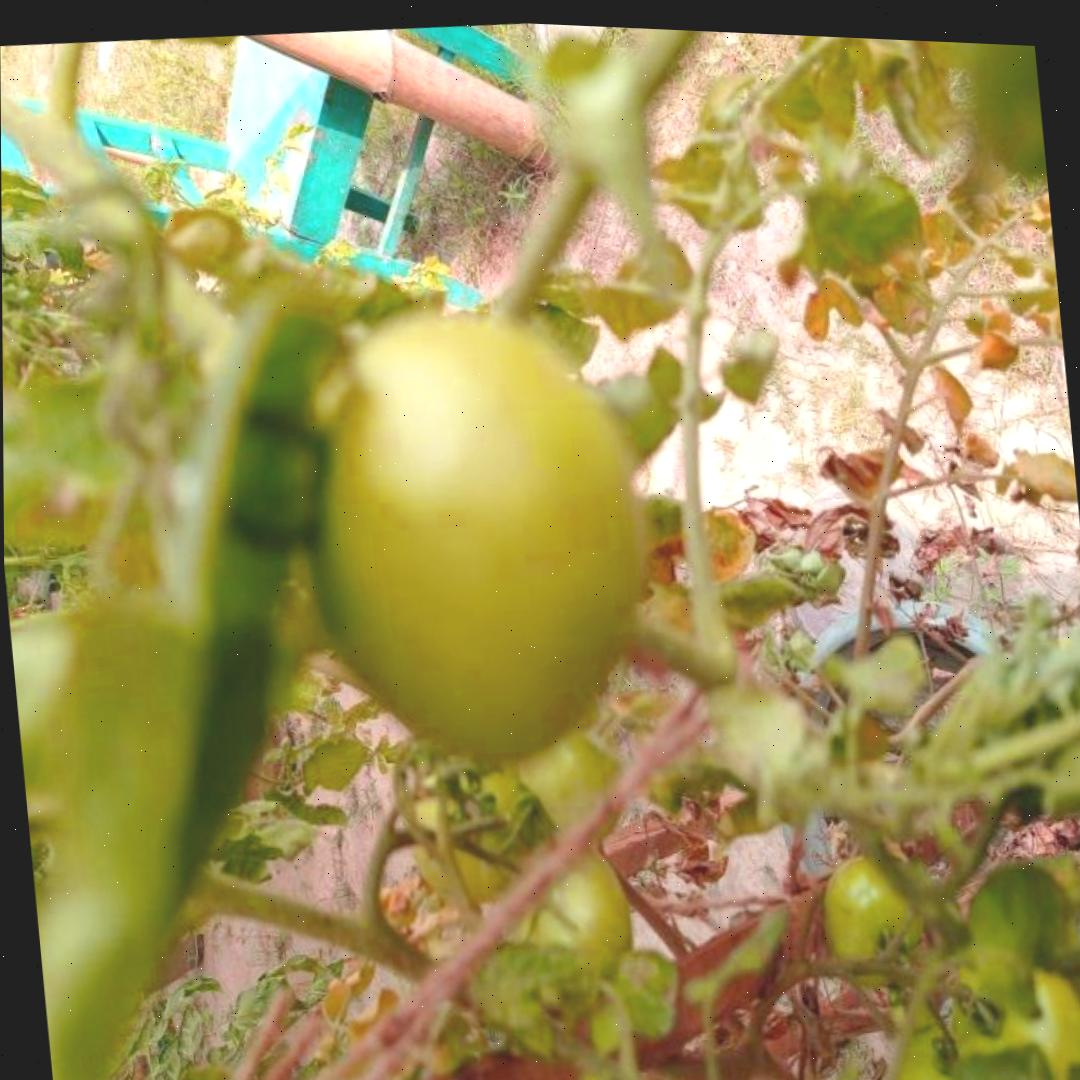mentah: (281, 288, 663, 783)
